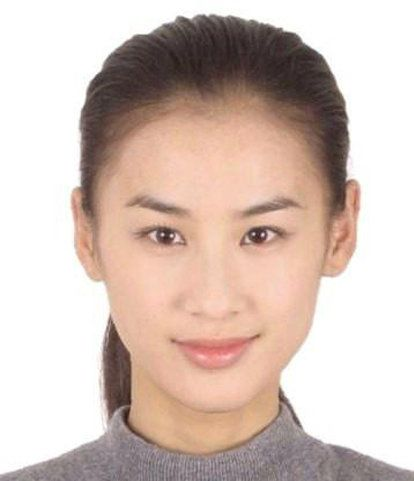unmask: (96, 154, 328, 392)
